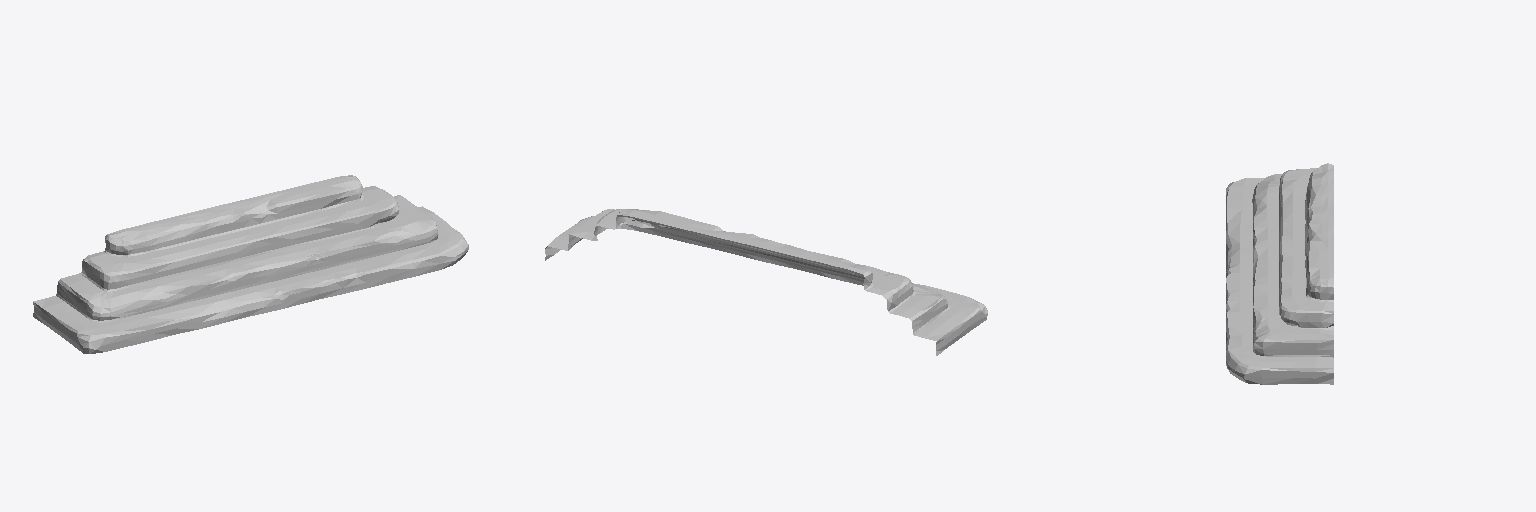
Rendered from dust_kabash.obj.
3 views of the same model, side by side, from view 1: azimuth 30°, elevation 25°; view 2: azimuth 150°, elevation 25°; view 3: azimuth 270°, elevation 25° (orthographic).
Visible parts, largest first — view 1: renderMesh0; view 2: renderMesh0; view 3: renderMesh0.
Boxes of the visible parts, box(x1,y1,x2,y2) form: renderMesh0: box(33, 175, 468, 353); renderMesh0: box(545, 209, 987, 355); renderMesh0: box(1226, 163, 1333, 384).
Bounding box in the file's own units: 200 × 32.19 × 48.15.